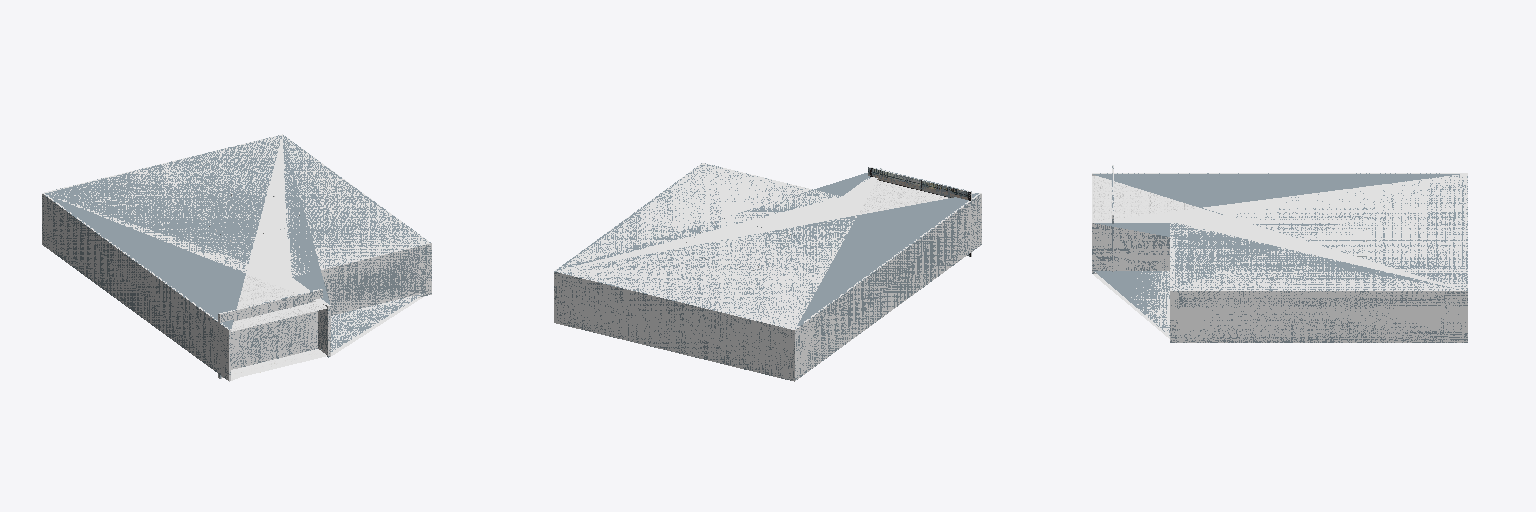
3 renders of one model, left to right at view 1: azimuth 30°, elevation 25°; view 2: azimuth 150°, elevation 25°; view 3: azimuth 270°, elevation 25°, orthographic.
Parts seen in each view (by area): view 1: Mesh1 Group1 Model, Mesh143 Group15 Model, Mesh51 Group8 Model, Mesh54 Group9 Model; view 2: Mesh1 Group1 Model, Mesh51 Group8 Model, Mesh143 Group15 Model; view 3: Mesh1 Group1 Model, Mesh51 Group8 Model.
Boxes of the visible parts, <box> form: Mesh1 Group1 Model: <box>42,134,431,381</box>; Mesh143 Group15 Model: <box>218,289,322,378</box>; Mesh51 Group8 Model: <box>231,274,326,331</box>; Mesh54 Group9 Model: <box>231,349,326,379</box>; Mesh1 Group1 Model: <box>554,163,981,381</box>; Mesh51 Group8 Model: <box>858,180,974,214</box>; Mesh143 Group15 Model: <box>868,167,971,256</box>; Mesh1 Group1 Model: <box>1092,173,1467,342</box>; Mesh51 Group8 Model: <box>1092,176,1198,221</box>.
Size of the model in its own units: 24.13 by 6.18 by 32.52.
Materials: 27 (18 with a texture image).